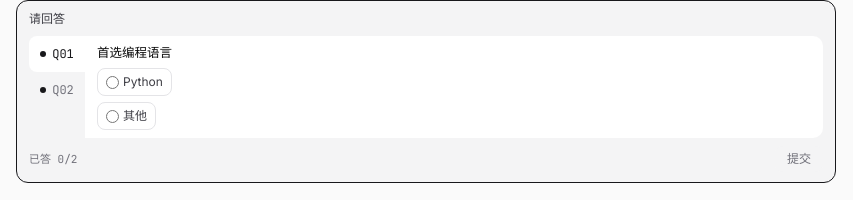
Test case: PendingQuestionNav · 切换 › 切走再切回 → 已答状态保留；导航状态圆点由未答(accent)翻转为已答(sage)
Step 1. Click the text "Python" → (134, 82), box [97, 68, 172, 96]
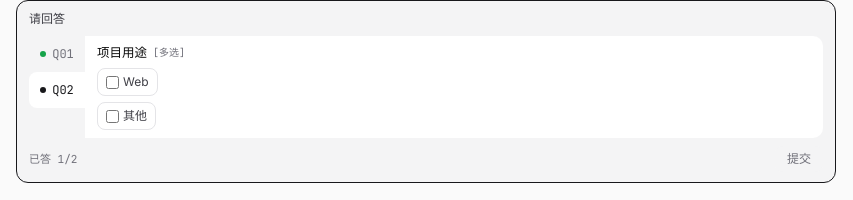
Step 2. Click the button "Q01" → (57, 54), box [29, 36, 85, 72]
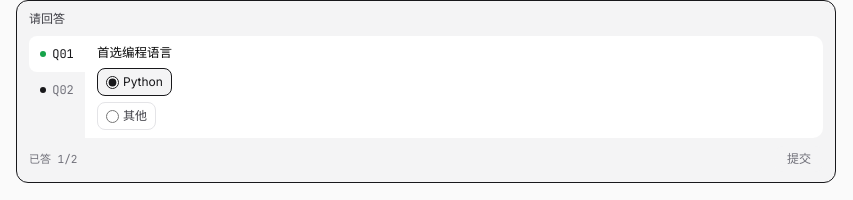
Expected: the radio button labelled "Python" is checked, [106, 76, 119, 89]
